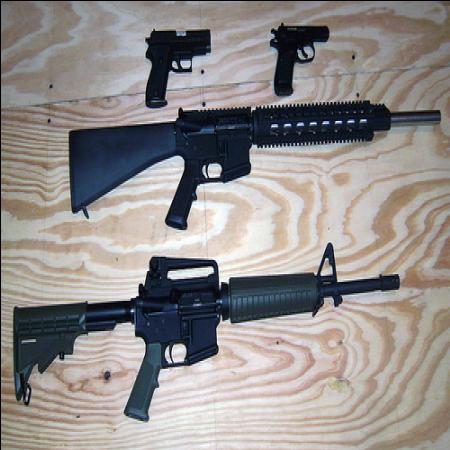Pistol: (140, 25, 214, 104), (270, 18, 330, 96)
